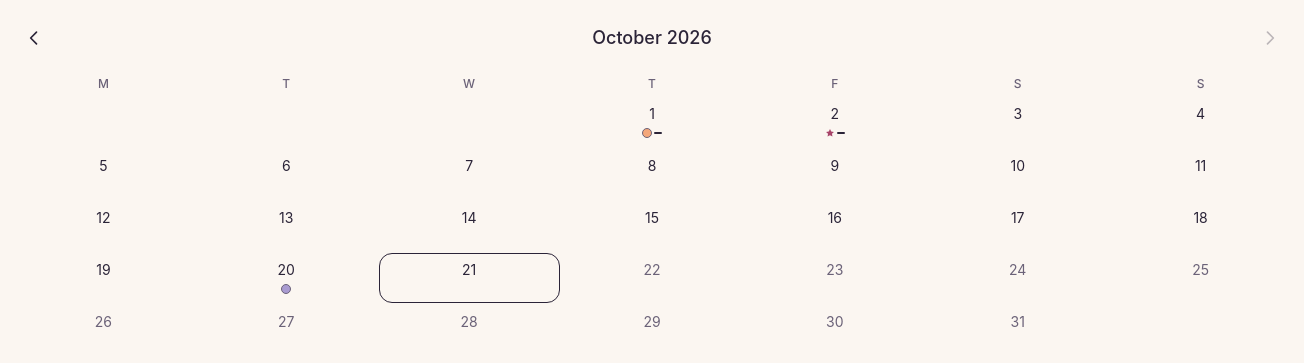
Test: MonthCalendar (1.1 M) › ‹ the previous month (asked for), and no months after this one
Check: the button named "Next month" is disabled, box [1248,16,1292,60]
Click the button named "Previous month".
click(34, 38)  # box [12,16,56,60]
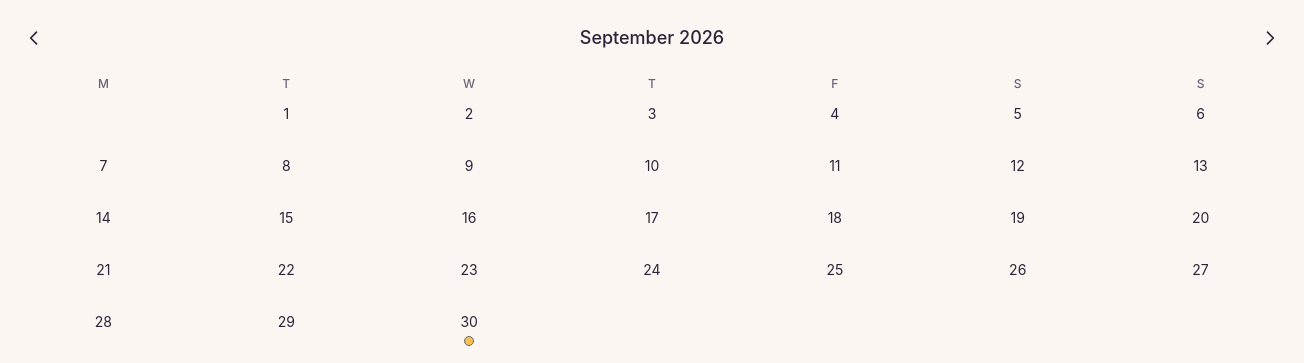
Check: the heading with test id "calendar-title" reads "September 2026", box [580,27,724,48]
Click the button named "Next month".
click(1270, 38)  # box [1248,16,1292,60]
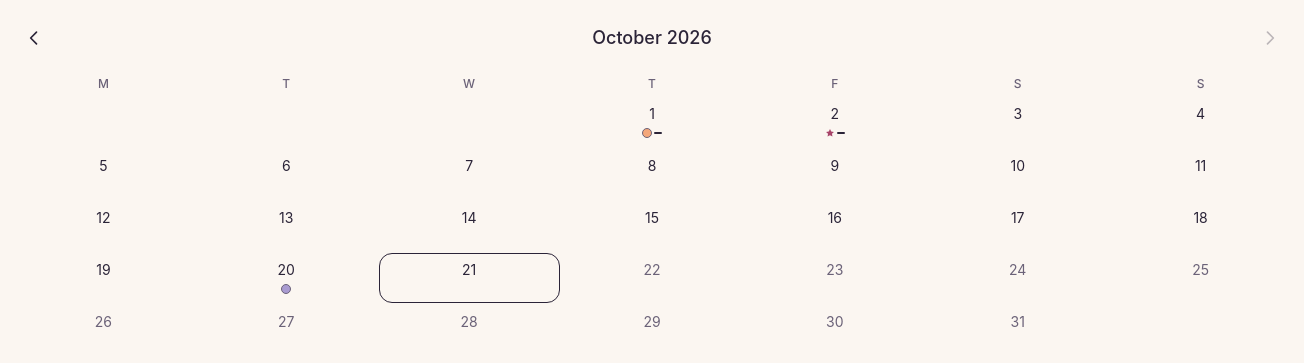
Check: the heading with test id "calendar-title" reads "October 2026", box [592,27,712,48]
